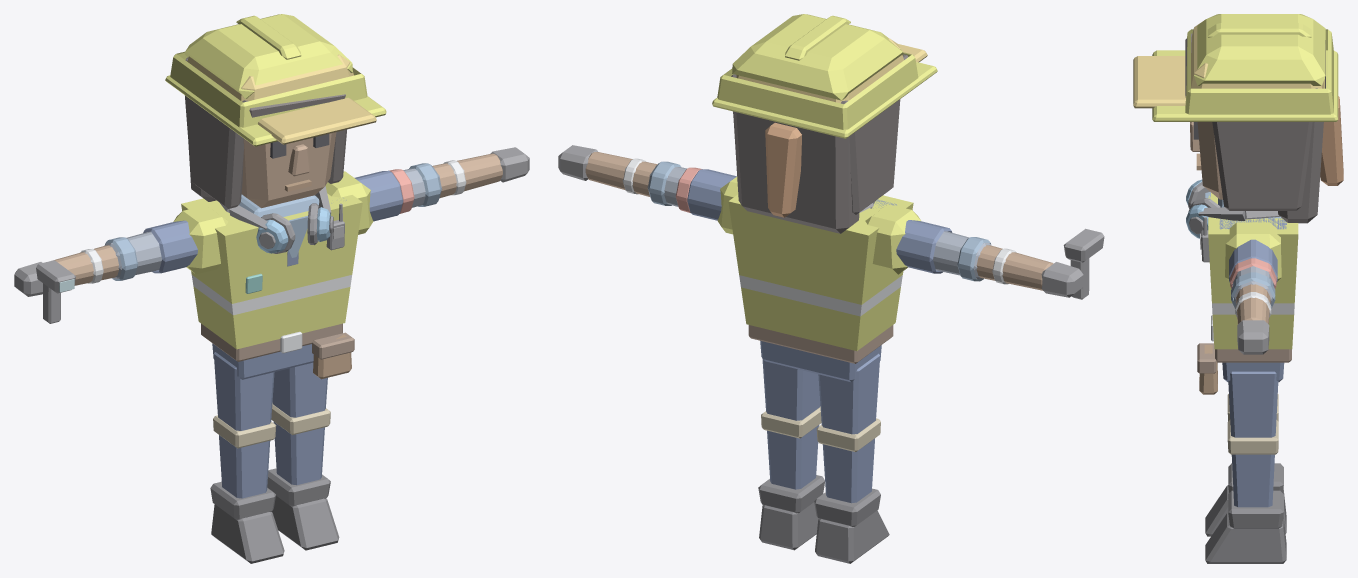
The model's file is warehouse-characters-pack.glb.
The picture shows the model from 3 angles, left to right: view 1: azimuth 30°, elevation 25°; view 2: azimuth 150°, elevation 25°; view 3: azimuth 270°, elevation 25°; orthographic projection. The views are drawn at different scales.
Parts seen in each view (by area): view 1: WarehouseWorker, ForkliftOperator, Picker, Supervisor; view 2: WarehouseWorker, ForkliftOperator, Supervisor, Picker; view 3: WarehouseWorker, ForkliftOperator, Supervisor, Picker.
Part boxes in pixels (x1,y1,x2,y2): WarehouseWorker: (14, 59, 529, 563); ForkliftOperator: (80, 14, 466, 283); Picker: (36, 54, 403, 448); Supervisor: (105, 57, 441, 293); WarehouseWorker: (558, 54, 1083, 563); ForkliftOperator: (622, 14, 1016, 284); Supervisor: (648, 99, 990, 281); Picker: (687, 38, 1104, 452); WarehouseWorker: (1185, 33, 1317, 563); ForkliftOperator: (1152, 14, 1338, 317); Supervisor: (1200, 40, 1325, 308); Picker: (1133, 19, 1343, 454).
Size of the model in its own units: 2.22 by 2.11 by 0.7801.
